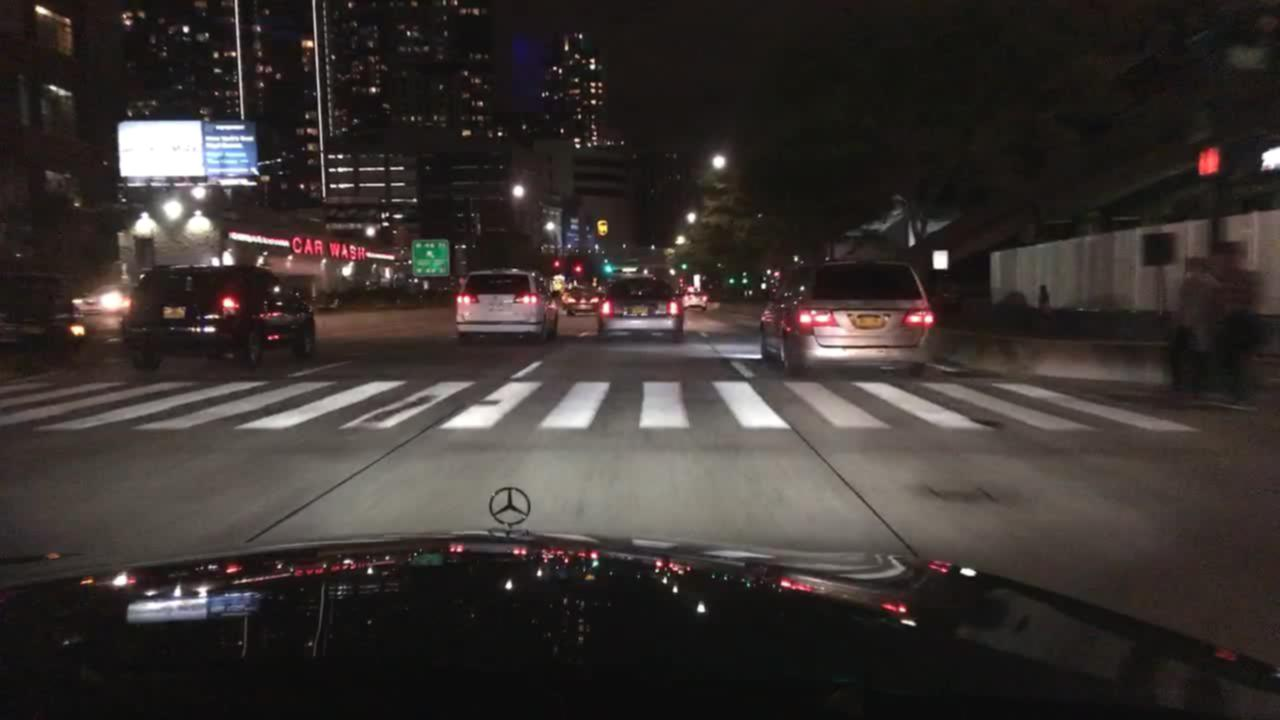Mercedes: (475, 479, 534, 527)
